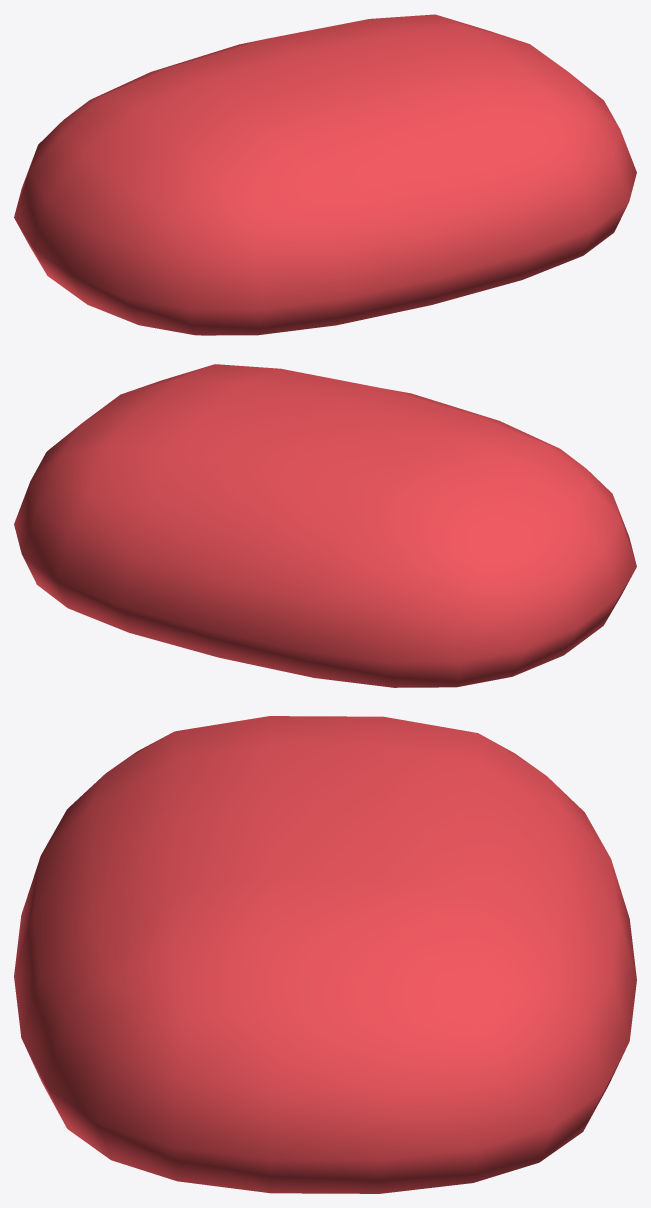
File: Pillow_002.fbx
The picture shows the model from 3 angles, top to bottom: view 1: azimuth 30°, elevation 25°; view 2: azimuth 150°, elevation 25°; view 3: azimuth 270°, elevation 25°; orthographic projection. The views are drawn at different scales.
Visible parts, largest first — view 1: Pillow_002; view 2: Pillow_002; view 3: Pillow_002.
Part boxes in pixels (x1,y1,x2,y2): Pillow_002: [14, 14, 636, 335]; Pillow_002: [14, 364, 636, 687]; Pillow_002: [14, 716, 636, 1193].
Size of the model in its own units: 0.462 by 0.143 by 0.3356.
